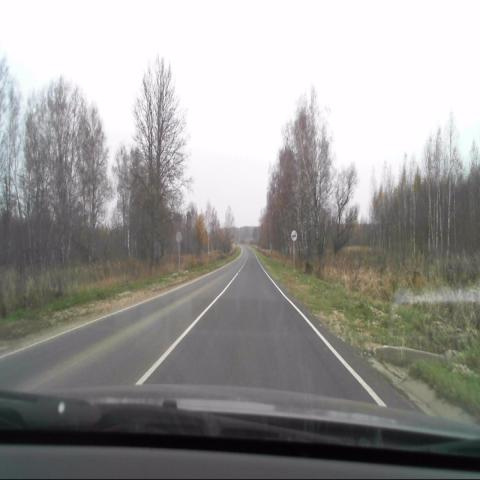3_21: (290, 229, 298, 242)
